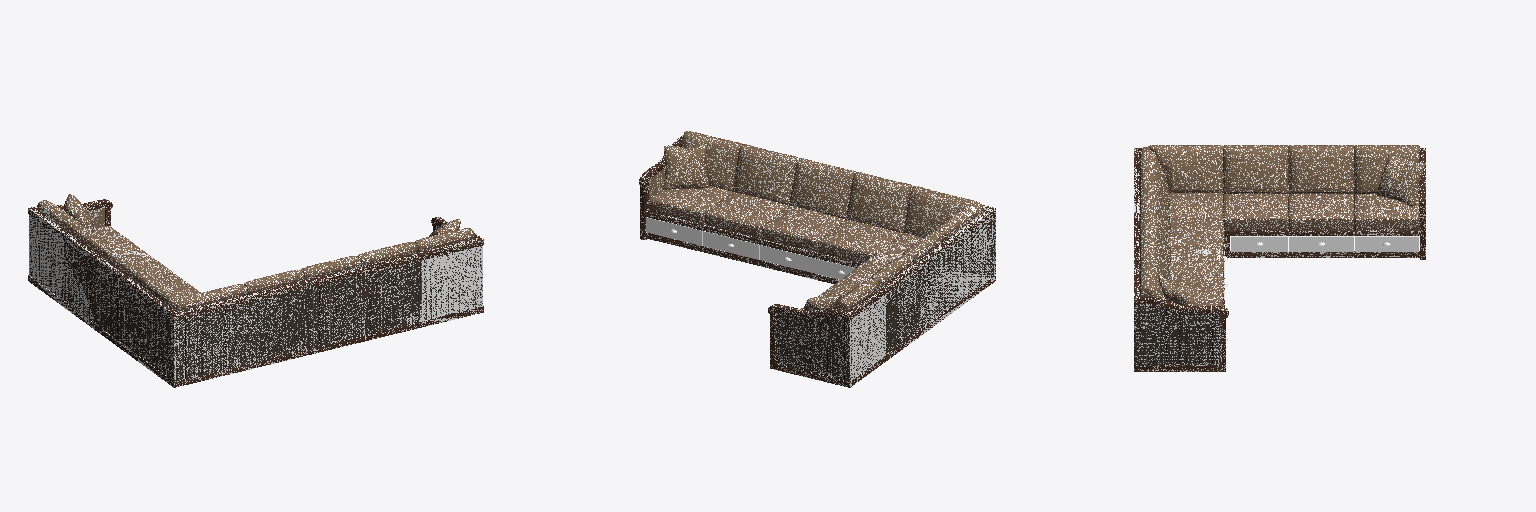
3 views of the same model, side by side, from view 1: azimuth 30°, elevation 25°; view 2: azimuth 150°, elevation 25°; view 3: azimuth 270°, elevation 25° (orthographic).
Visible parts, largest first — view 1: mesh62_mesh62-geometry, mesh69_mesh69-geometry, mesh4_mesh4-geometry, mesh25_mesh25-geometry, mesh18_mesh18-geometry, mesh36_mesh36-geometry, mesh51_mesh51-geometry, mesh24_mesh24-geometry, mesh14_mesh14-geometry, mesh61_mesh61-geometry, mesh67_mesh67-geometry, mesh68_mesh68-geometry (+13 smaller); view 2: mesh36_mesh36-geometry, mesh69_mesh69-geometry, mesh58_mesh58-geometry, mesh17_mesh17-geometry, mesh23_mesh23-geometry, mesh16_mesh16-geometry, mesh22_mesh22-geometry, mesh57_mesh57-geometry, mesh61_mesh61-geometry, mesh1_mesh1-geometry, mesh51_mesh51-geometry, mesh2_mesh2-geometry (+15 smaller); view 3: mesh4_mesh4-geometry, mesh56_mesh56-geometry, mesh49_mesh49-geometry, mesh60_mesh60-geometry, mesh55_mesh55-geometry, mesh48_mesh48-geometry, mesh33_mesh33-geometry, mesh34_mesh34-geometry, mesh35_mesh35-geometry, mesh57_mesh57-geometry, mesh22_mesh22-geometry, mesh59_mesh59-geometry (+13 smaller).
Boxes of the visible parts, x1=… form: mesh62_mesh62-geometry: x1=174, y1=288, x2=307, y2=381; mesh69_mesh69-geometry: x1=97, y1=265, x2=173, y2=380; mesh4_mesh4-geometry: x1=422, y1=246, x2=482, y2=320; mesh25_mesh25-geometry: x1=308, y1=274, x2=364, y2=348; mesh18_mesh18-geometry: x1=365, y1=261, x2=421, y2=334; mesh36_mesh36-geometry: x1=29, y1=215, x2=63, y2=300; mesh51_mesh51-geometry: x1=64, y1=241, x2=96, y2=324; mesh24_mesh24-geometry: x1=174, y1=267, x2=364, y2=320; mesh14_mesh14-geometry: x1=363, y1=217, x2=483, y2=273; mesh61_mesh61-geometry: x1=176, y1=284, x2=247, y2=311; mesh67_mesh67-geometry: x1=174, y1=349, x2=307, y2=387; mesh68_mesh68-geometry: x1=97, y1=257, x2=175, y2=319; mesh36_mesh36-geometry: x1=776, y1=295, x2=885, y2=381; mesh69_mesh69-geometry: x1=918, y1=214, x2=995, y2=330; mesh58_mesh58-geometry: x1=846, y1=172, x2=913, y2=232; mesh17_mesh17-geometry: x1=733, y1=144, x2=799, y2=205; mesh23_mesh23-geometry: x1=790, y1=158, x2=855, y2=219; mesh16_mesh16-geometry: x1=705, y1=192, x2=788, y2=238; mesh22_mesh22-geometry: x1=761, y1=206, x2=845, y2=252; mesh57_mesh57-geometry: x1=818, y1=220, x2=903, y2=263; mesh61_mesh61-geometry: x1=904, y1=186, x2=982, y2=237; mesh1_mesh1-geometry: x1=648, y1=186, x2=732, y2=224; mesh51_mesh51-geometry: x1=886, y1=271, x2=917, y2=354; mesh2_mesh2-geometry: x1=681, y1=131, x2=743, y2=191; mesh4_mesh4-geometry: x1=1134, y1=305, x2=1219, y2=365; mesh56_mesh56-geometry: x1=1223, y1=145, x2=1288, y2=193; mesh49_mesh49-geometry: x1=1289, y1=145, x2=1353, y2=193; mesh60_mesh60-geometry: x1=1148, y1=145, x2=1222, y2=192; mesh55_mesh55-geometry: x1=1223, y1=194, x2=1288, y2=229; mesh48_mesh48-geometry: x1=1288, y1=194, x2=1353, y2=229; mesh33_mesh33-geometry: x1=1354, y1=194, x2=1419, y2=229; mesh34_mesh34-geometry: x1=1354, y1=145, x2=1419, y2=193; mesh35_mesh35-geometry: x1=1376, y1=154, x2=1425, y2=206; mesh57_mesh57-geometry: x1=1169, y1=219, x2=1223, y2=250; mesh22_mesh22-geometry: x1=1169, y1=246, x2=1223, y2=277; mesh59_mesh59-geometry: x1=1168, y1=193, x2=1222, y2=220.
Size of the model in its own units: 0.7602 by 0.1905 by 0.6211.
21 materials, 16 textured.